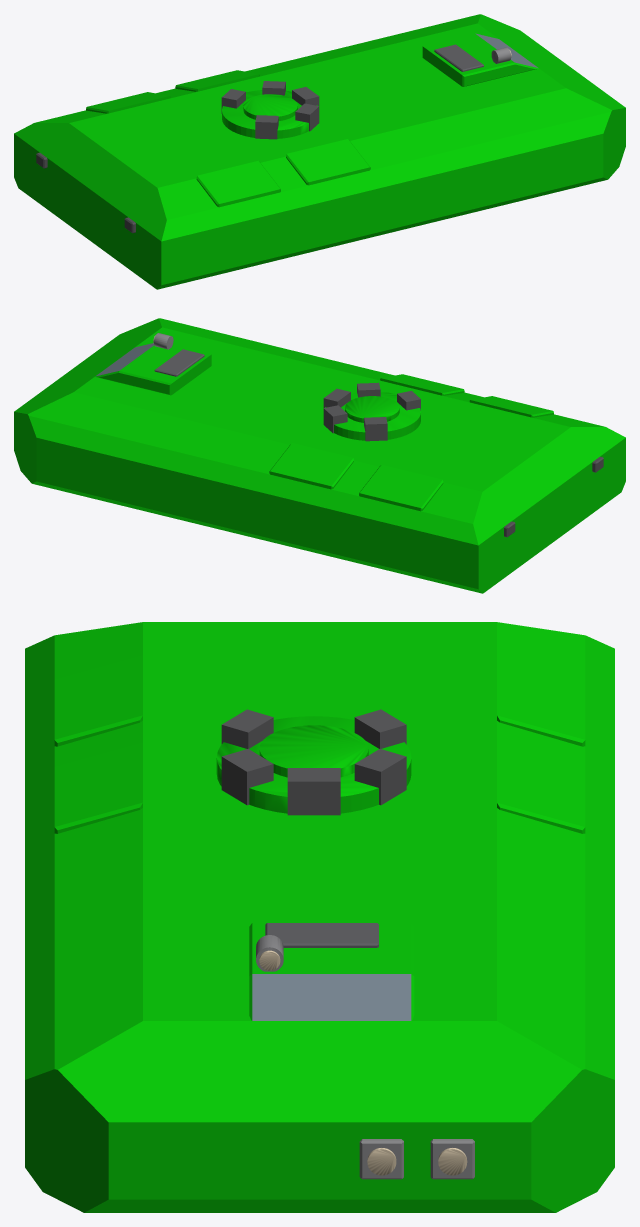
Rendered from apc-water.glb.
The picture shows the model from 3 angles, top to bottom: view 1: azimuth 30°, elevation 25°; view 2: azimuth 150°, elevation 25°; view 3: azimuth 270°, elevation 25°; orthographic projection. The views are drawn at different scales.
Visible parts, largest first — view 1: hull, cab, vent_3, vent, cupola, hatch, vent_2, vent_4, cab_hatch, periscope_5, periscope_3, periscope; view 2: hull, cab, vent_4, vent_2, cupola, hatch, vent, vent_3, cab_hatch, periscope_4, periscope_2, periscope; view 3: hull, cab, vent_3, vent_4, vent, vent_2, cupola, hatch, cab_hatch, periscope, periscope_3, periscope_2 (+4 smaller).
Boxes of the visible parts, box(x1,y1,x2,y2) form: hull: box(14, 14, 625, 289); cab: box(422, 33, 538, 86); vent_3: box(286, 139, 370, 185); vent: box(196, 160, 280, 207); cupola: box(222, 90, 317, 138); hatch: box(243, 94, 297, 120); vent_2: box(86, 92, 170, 113); vent_4: box(175, 70, 259, 91); cab_hatch: box(434, 44, 483, 71); periscope_5: box(255, 115, 278, 139); periscope_3: box(295, 103, 319, 131); periscope: box(292, 87, 319, 105); hull: box(14, 318, 625, 593); cab: box(95, 343, 211, 395); vent_4: box(269, 443, 353, 489); vent_2: box(359, 464, 443, 511); cupola: box(325, 392, 420, 440); hatch: box(345, 396, 399, 422); vent: box(469, 396, 553, 417); vent_3: box(380, 374, 464, 395); cab_hatch: box(154, 349, 204, 376); periscope_4: box(364, 417, 387, 441); periscope_2: box(323, 405, 347, 433); periscope: box(323, 388, 350, 407); hull: box(25, 622, 614, 1212); cab: box(249, 923, 414, 1020); vent_3: box(54, 743, 142, 833); vent_4: box(497, 743, 585, 833); vent: box(54, 655, 142, 746); vent_2: box(497, 655, 585, 746); cupola: box(216, 716, 411, 813); hatch: box(259, 725, 368, 777); cab_hatch: box(265, 923, 378, 947); periscope: box(287, 768, 340, 815); periscope_3: box(221, 749, 273, 805); periscope_2: box(354, 749, 406, 805).
Bounding box in the file's own units: 1.25 × 0.245 × 0.6485.
